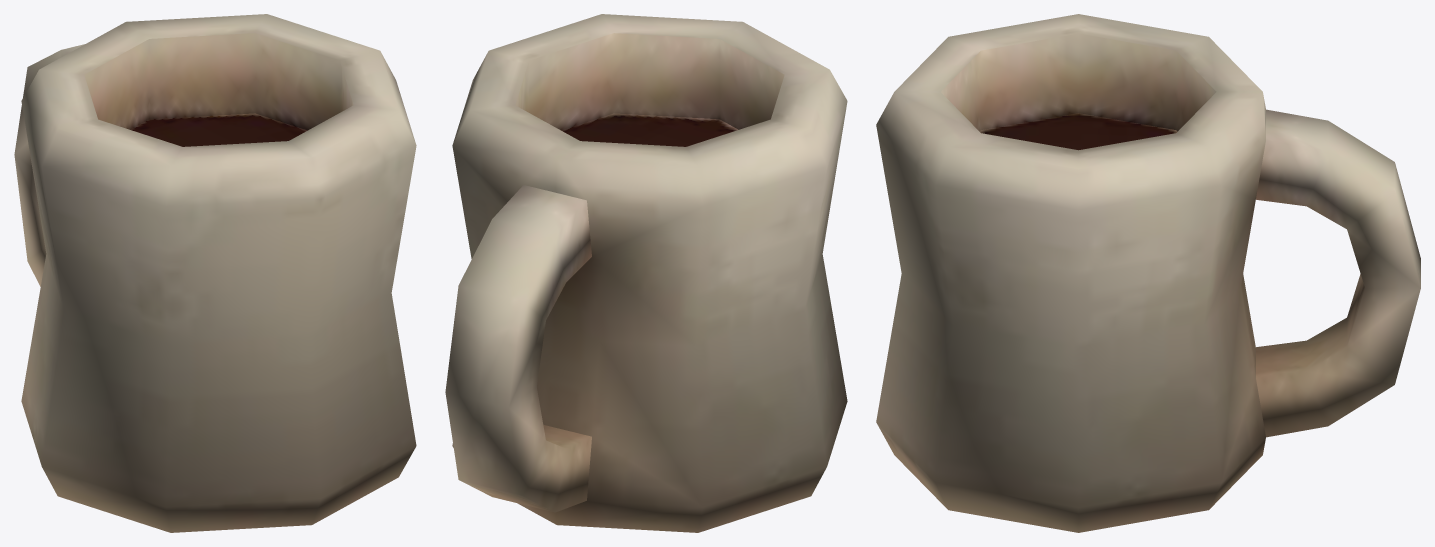
3 views of the same model, side by side, from view 1: azimuth 30°, elevation 25°; view 2: azimuth 150°, elevation 25°; view 3: azimuth 270°, elevation 25° (orthographic).
Size of the model in its own units: 0.2843 by 0.2814 by 0.3825.
Materials: 1 (1 with a texture image).
